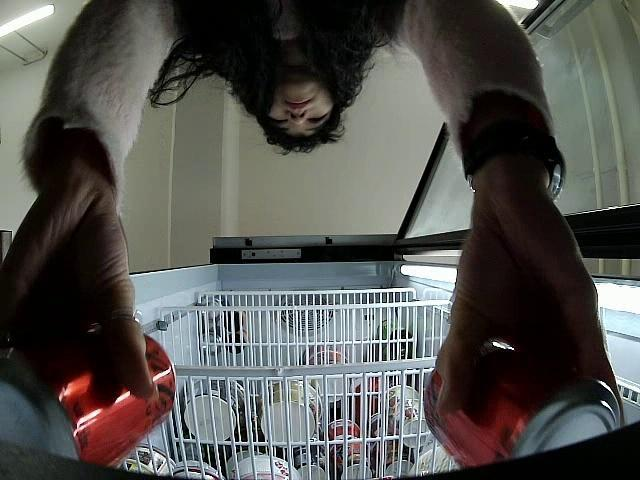11_cocaColaZero: (0, 331, 179, 464), (424, 345, 620, 466)
